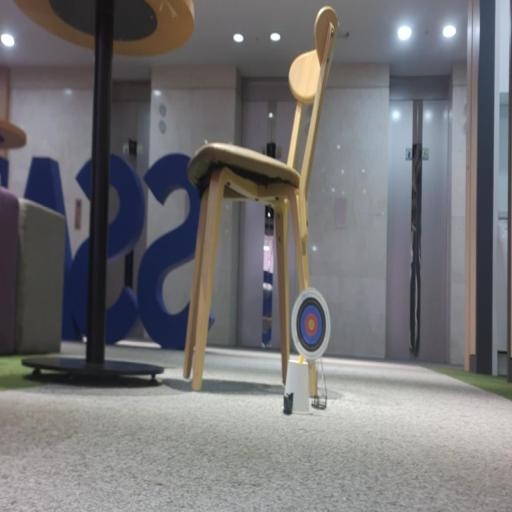target: (292, 289, 330, 358)
